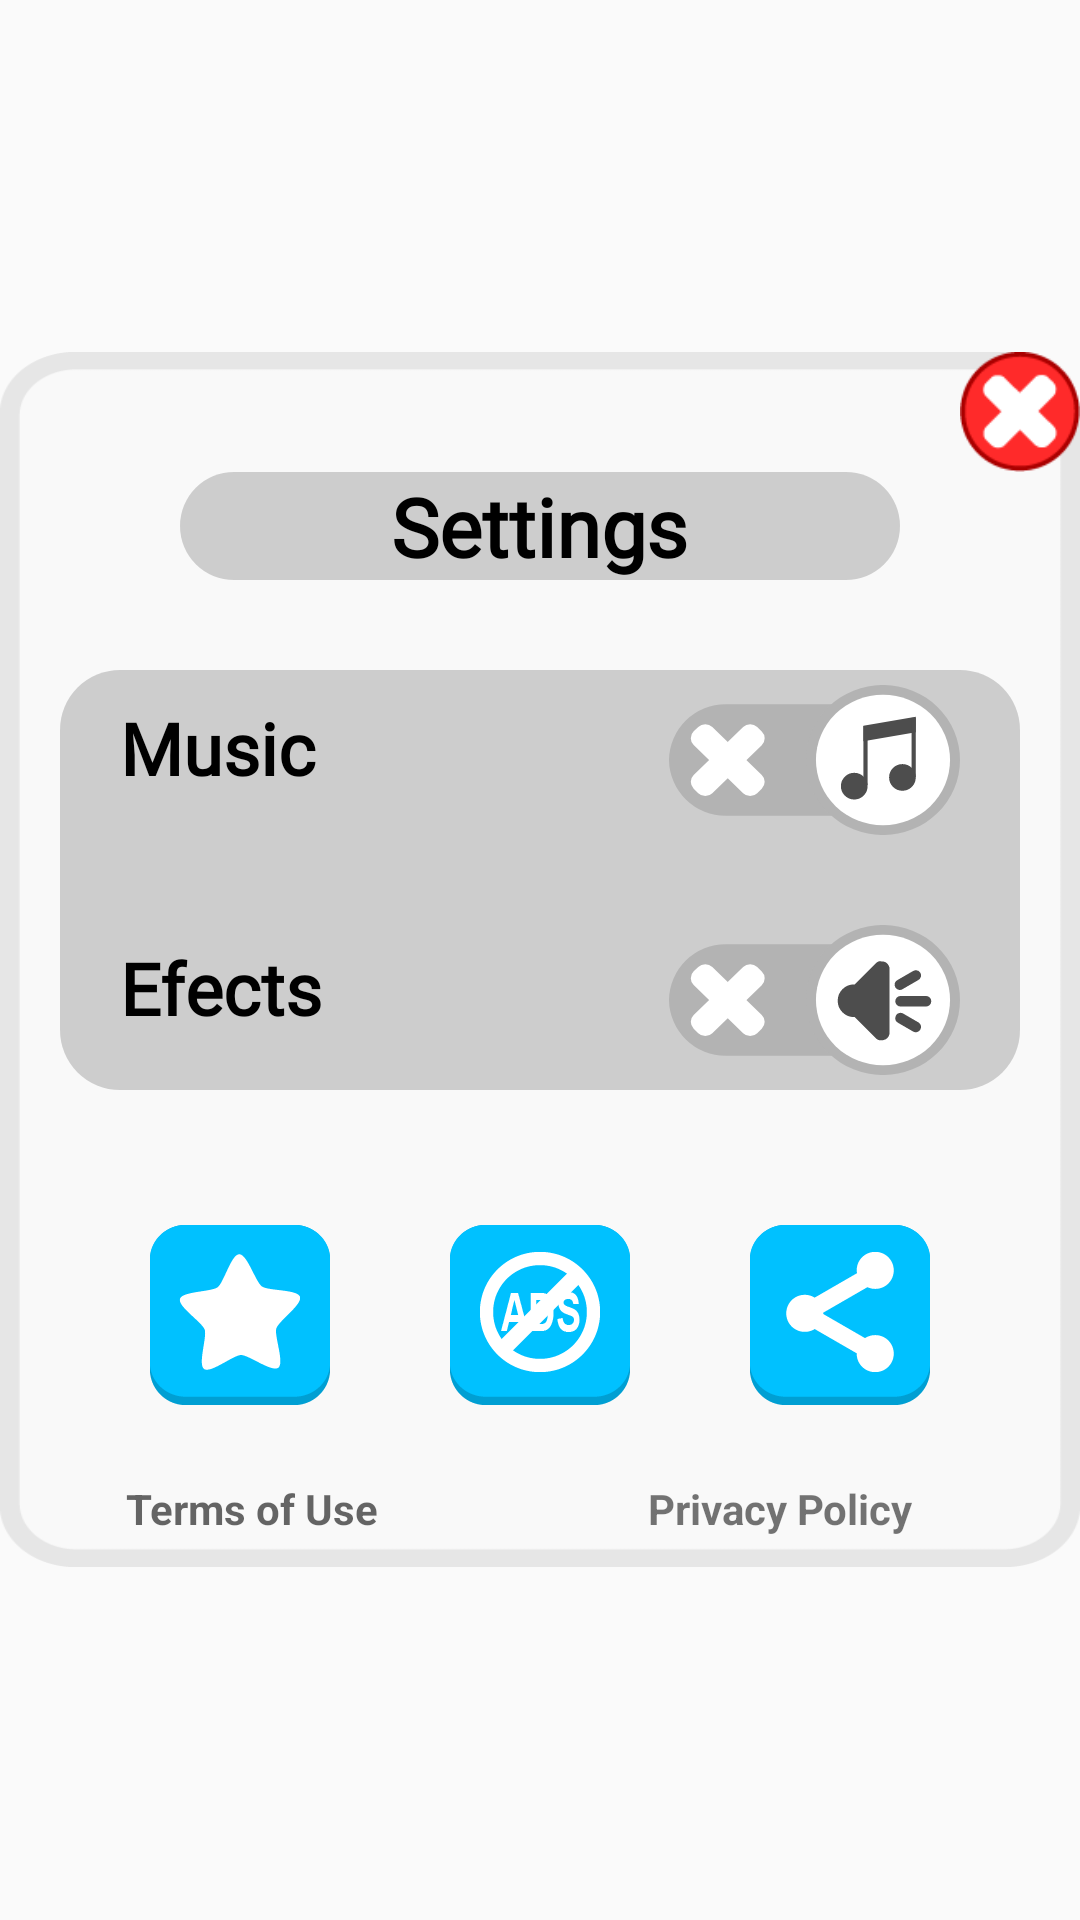

Screen size 1080*1920. Icon name, then its center in pixels as (x=x, y=y):
cerrar: (x=1020, y=412)
compartir: (x=840, y=1315)
valorar: (x=240, y=1315)
